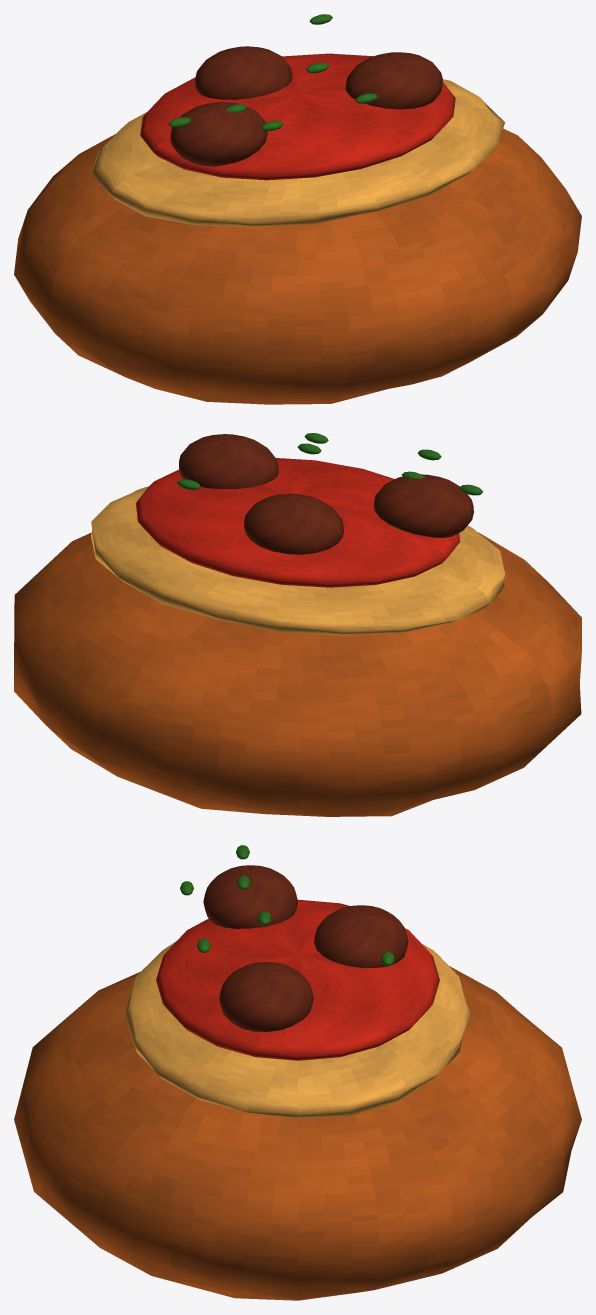
The model's file is bread_mexican.glb.
3 views of the same model, one above another, from view 1: azimuth 30°, elevation 25°; view 2: azimuth 150°, elevation 25°; view 3: azimuth 270°, elevation 25° (orthographic). The views are drawn at different scales.
Parts seen in each view (by area): view 1: ふっくらした生地.007, 具材を載せるくぼみ.007, ピリ辛トマトソース, メキシカンの具, メキシカンの具.002, メキシカンの具.001; view 2: ふっくらした生地.007, 具材を載せるくぼみ.007, ピリ辛トマトソース, メキシカンの具.001, メキシカンの具, メキシカンの具.002; view 3: ふっくらした生地.007, ピリ辛トマトソース, 具材を載せるくぼみ.007, メキシカンの具.002, メキシカンの具.001, メキシカンの具.
Part boxes in pixels (<box>): ふっくらした生地.007: <box>14,128,581,404</box>; 具材を載せるくぼみ.007: <box>91,79,504,226</box>; ピリ辛トマトソース: <box>140,53,455,180</box>; メキシカンの具: <box>170,102,267,166</box>; メキシカンの具.002: <box>345,52,442,109</box>; メキシカンの具.001: <box>195,46,292,99</box>; ふっくらした生地.007: <box>14,532,581,816</box>; 具材を載せるくぼみ.007: <box>91,486,504,635</box>; ピリ辛トマトソース: <box>135,458,460,587</box>; メキシカンの具.001: <box>244,493,343,554</box>; メキシカンの具: <box>374,474,473,537</box>; メキシカンの具.002: <box>179,434,278,488</box>; ふっくらした生地.007: <box>14,966,581,1300</box>; ピリ辛トマトソース: <box>156,899,439,1060</box>; 具材を載せるくぼみ.007: <box>124,941,471,1118</box>; メキシカンの具.002: <box>219,962,313,1031</box>; メキシカンの具.001: <box>314,905,408,968</box>; メキシカンの具: <box>203,865,297,928</box>.
Bounding box in the file's own units: 0.7929 × 0.4609 × 0.72.
Materials: 5 (5 with a texture image).
